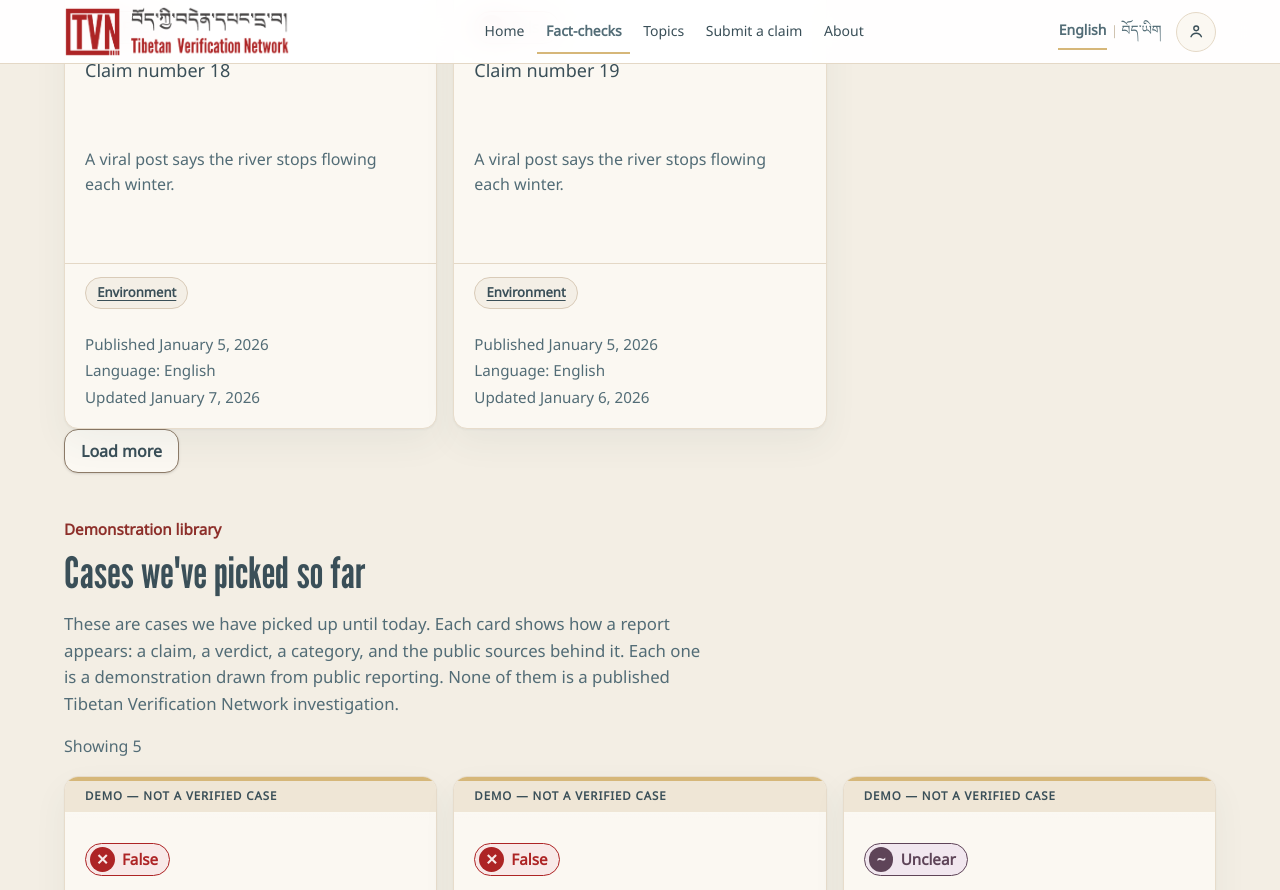
Scenario: search page › loads more results on request and announces the count
(page scrolled)
Click the button "Load more" at [122, 451], box [64,429,179,473]
(page scrolled)
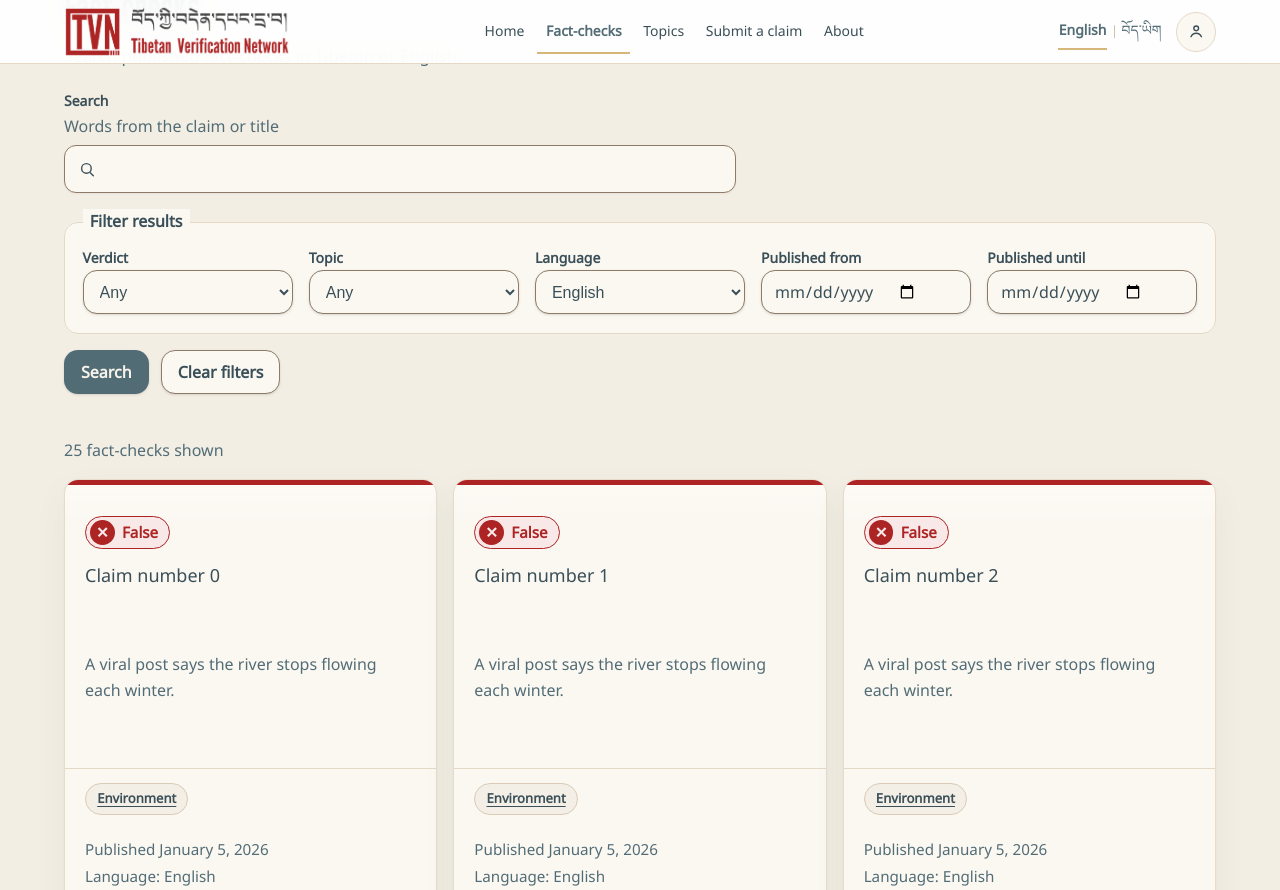
Check: the message reads "25 fact-checks shown", box [64,439,224,461]
Check: the button "Load more" is gone
